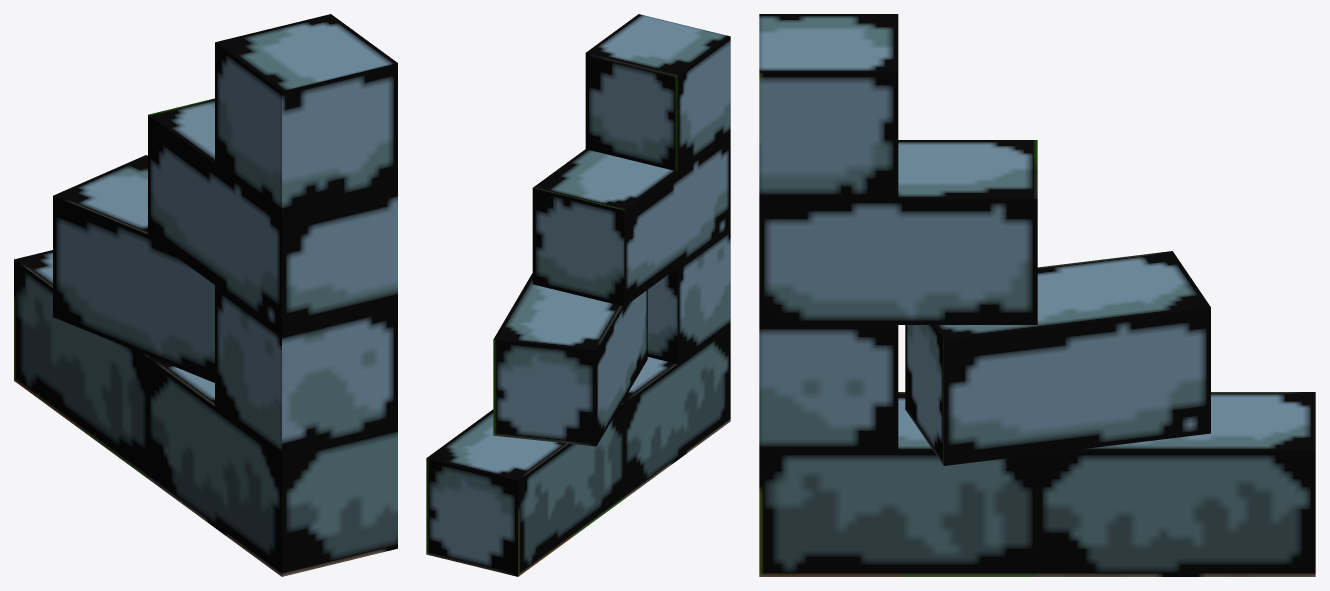
File: deco_wallBroken_C.FBX
3 views of the same model, side by side, from view 1: azimuth 30°, elevation 25°; view 2: azimuth 150°, elevation 25°; view 3: azimuth 270°, elevation 25° (orthographic). The views are drawn at different scales.
Parts seen in each view (by area): view 1: deco_wallBroken_C; view 2: deco_wallBroken_C; view 3: deco_wallBroken_C.
Boxes of the visible parts, x1,y1,x2,y2 form: deco_wallBroken_C: (14,14,397,576); deco_wallBroken_C: (426,14,730,576); deco_wallBroken_C: (759,14,1315,576).
Size of the model in its own units: 0.7569 by 2 by 2.
1 material, 1 textured.
